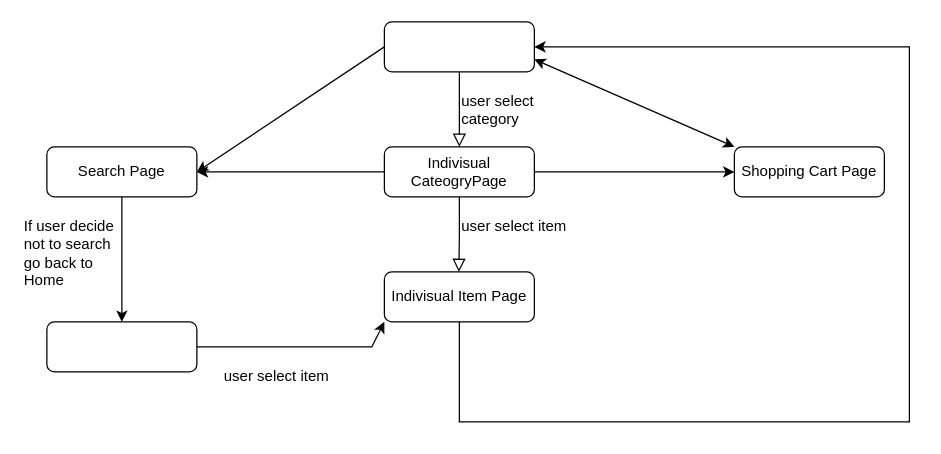
The diagram is 941 pixels wide and 454 high, and some of its shapes have lost their labels. Each missing label, with the centre of its shape:
Home Page: the point at 458,46
Sorted Page: the point at 121,346
